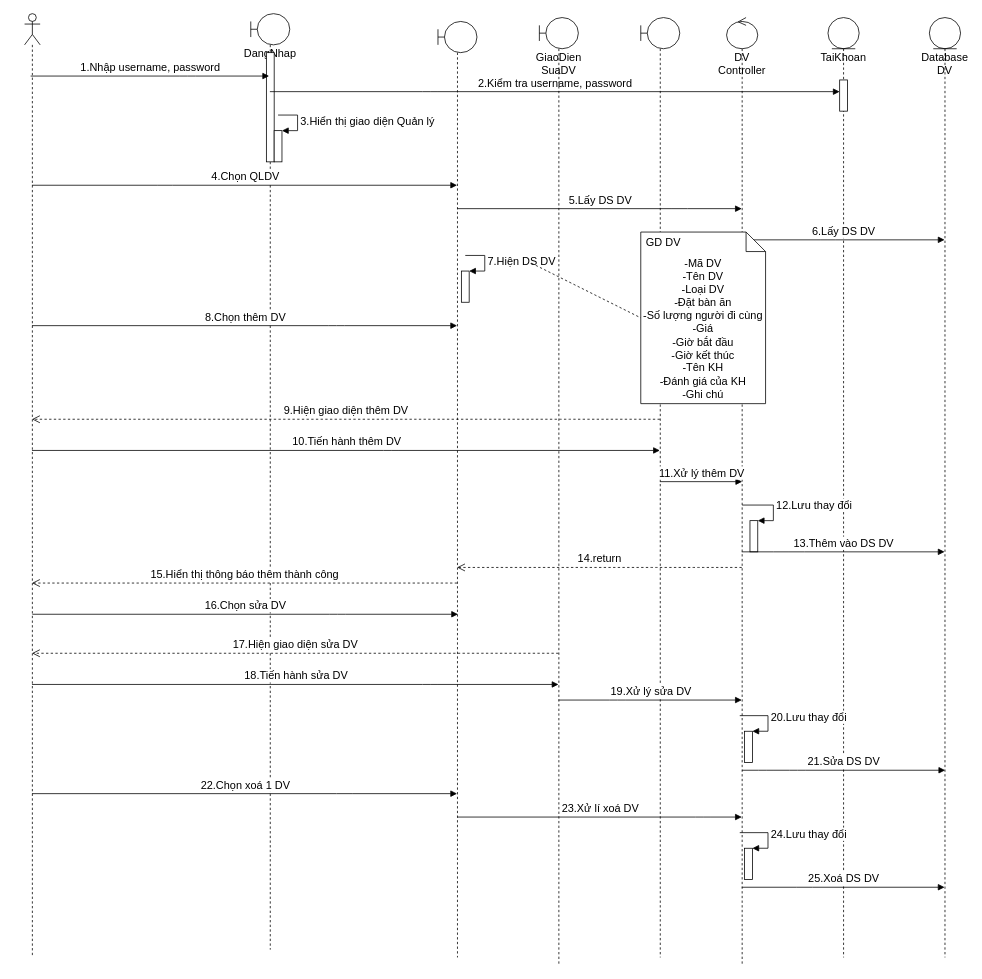
This 982x979 diagram has some shape labels left out. The box of each missing label's shape, as (x1, y1, x2, y2) in pixels:
GiaoDien ThemDV: (640, 17, 680, 957)
GiaoDienDV: (437, 21, 477, 957)
QuanLy: (24, 13, 40, 957)
